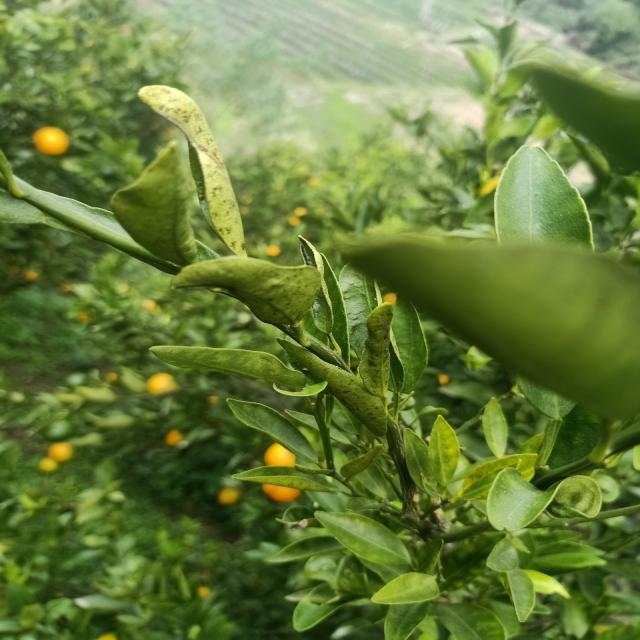melanose: (117, 69, 282, 276), (164, 245, 320, 333), (347, 299, 412, 400)
